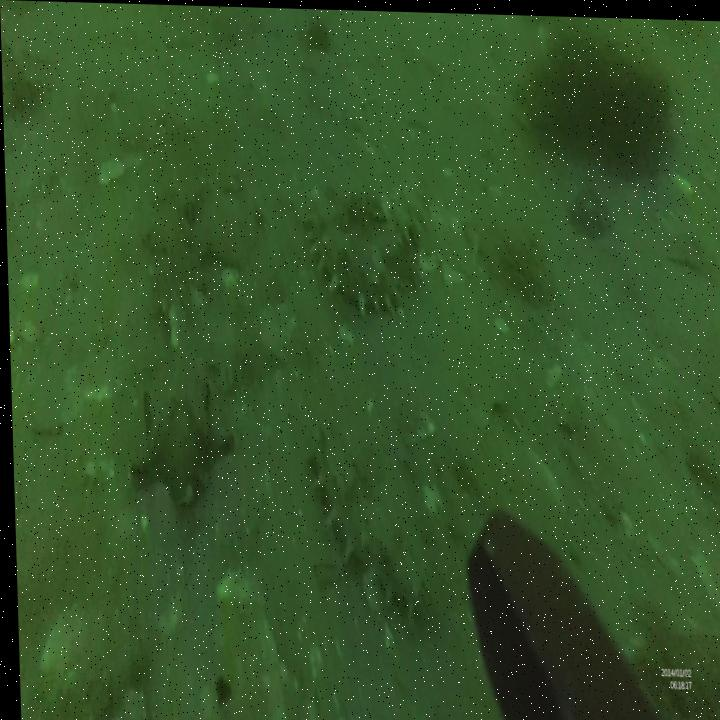holothurian: (303, 417, 430, 625), (305, 200, 397, 314), (354, 175, 423, 286)
starfish: (125, 379, 233, 513)
